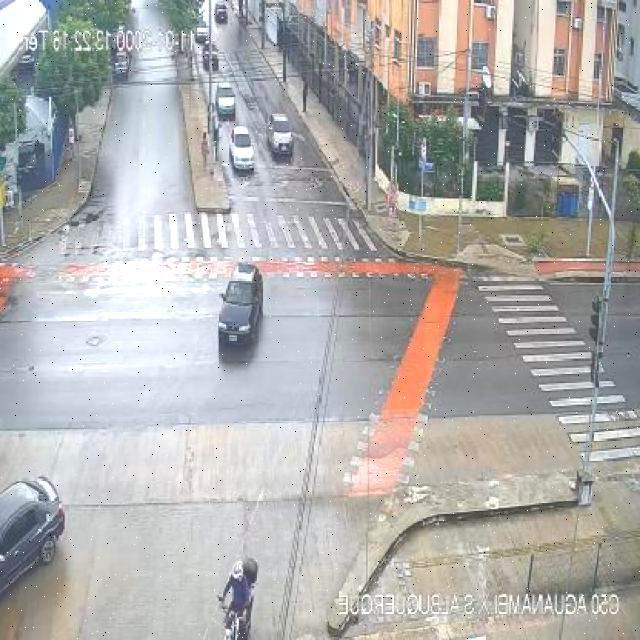Car: (0, 457, 76, 590), (203, 254, 283, 353), (266, 107, 296, 163), (228, 126, 256, 176), (214, 77, 236, 117), (197, 33, 219, 67), (210, 0, 234, 26)
Cycle: (207, 541, 273, 640)
